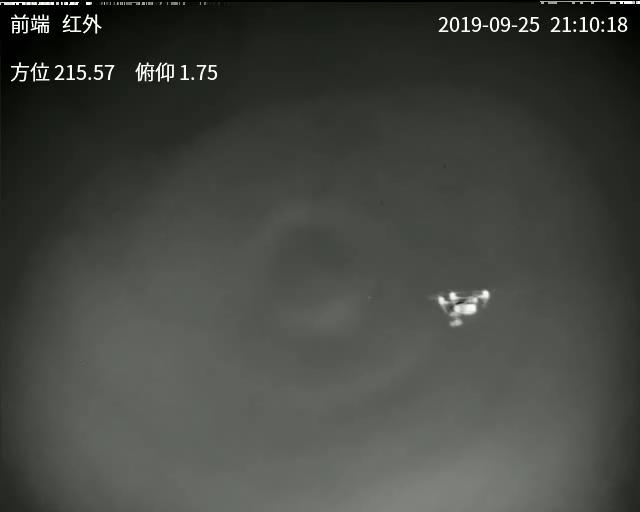uav: (434, 287, 491, 331)
